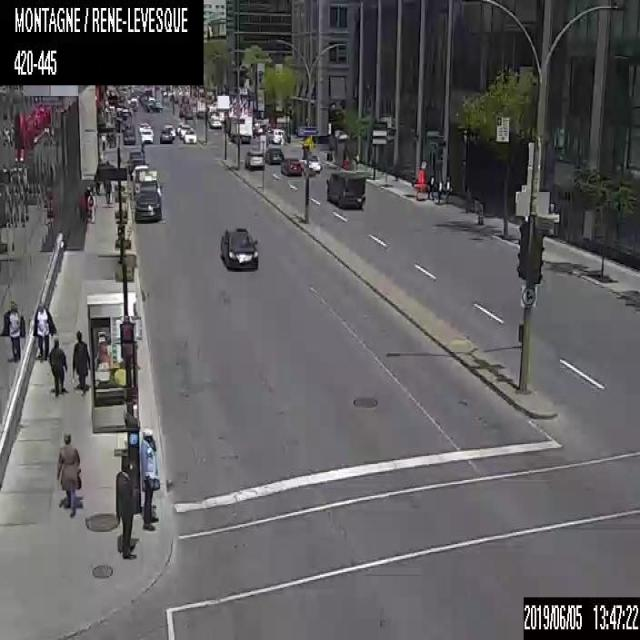construction: (417, 167, 425, 192)
pedestrian: (115, 456, 137, 564), (139, 428, 161, 529), (55, 431, 81, 512), (0, 298, 25, 362), (31, 300, 54, 356), (69, 328, 90, 389), (48, 338, 69, 396), (85, 190, 95, 222), (426, 172, 434, 203), (444, 174, 451, 202), (436, 176, 443, 203), (103, 181, 111, 203)
vehicle: (228, 133, 268, 175), (218, 227, 257, 269), (326, 169, 365, 209), (134, 184, 161, 220), (134, 169, 162, 197), (226, 115, 251, 141), (264, 144, 285, 164), (281, 156, 301, 177), (300, 153, 320, 174), (264, 126, 285, 144), (244, 148, 262, 168), (128, 157, 148, 174), (131, 165, 148, 182), (139, 126, 153, 143), (121, 129, 136, 143), (183, 128, 196, 142), (158, 128, 171, 142), (209, 114, 222, 128), (128, 147, 144, 158), (164, 123, 174, 138), (138, 121, 151, 132), (178, 124, 188, 136), (175, 122, 183, 134)
